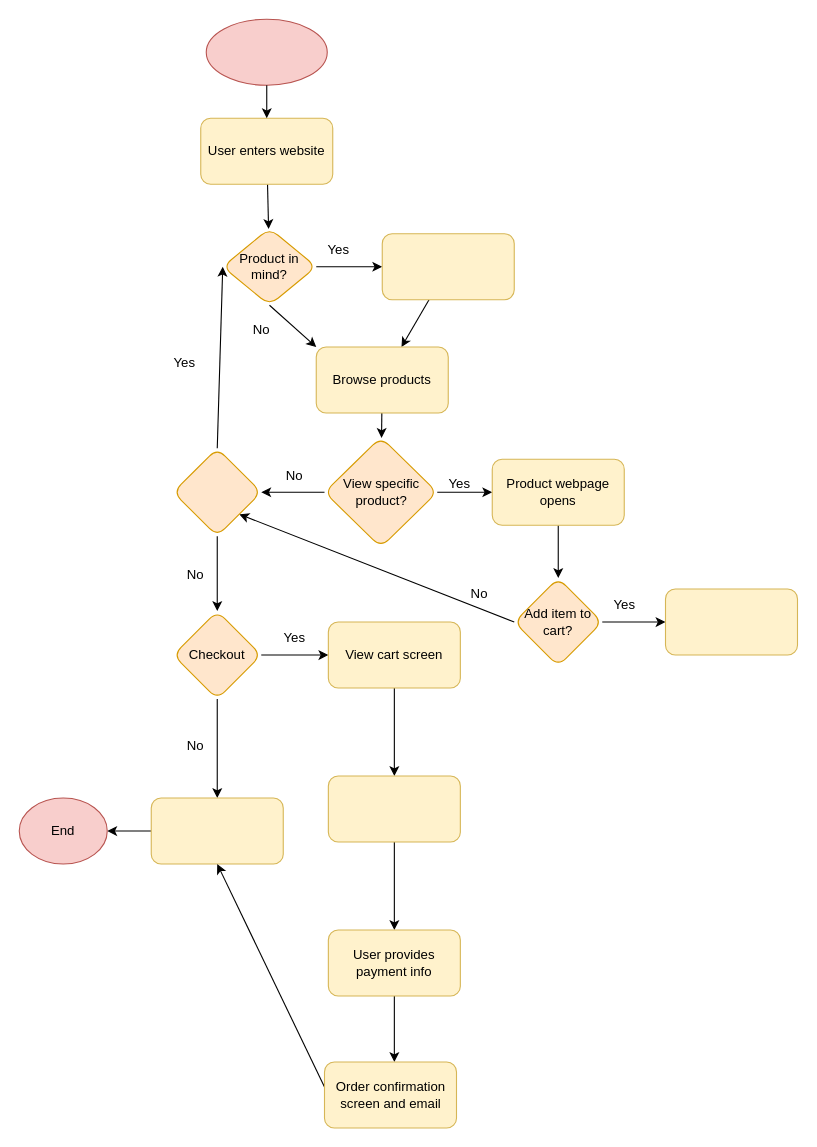
This 817x1147 diagram has some shape labels left out. Here are the shapes that lost their labels. From the top down, the centre of each, then its label:
At point (266, 51): "Start".
At point (447, 266): "Enters search into website".
At point (216, 491): "Continue shopping".
At point (731, 621): "Added to cart confirmation".
At point (393, 808): "View payment screen".
At point (216, 830): "Leave website".
